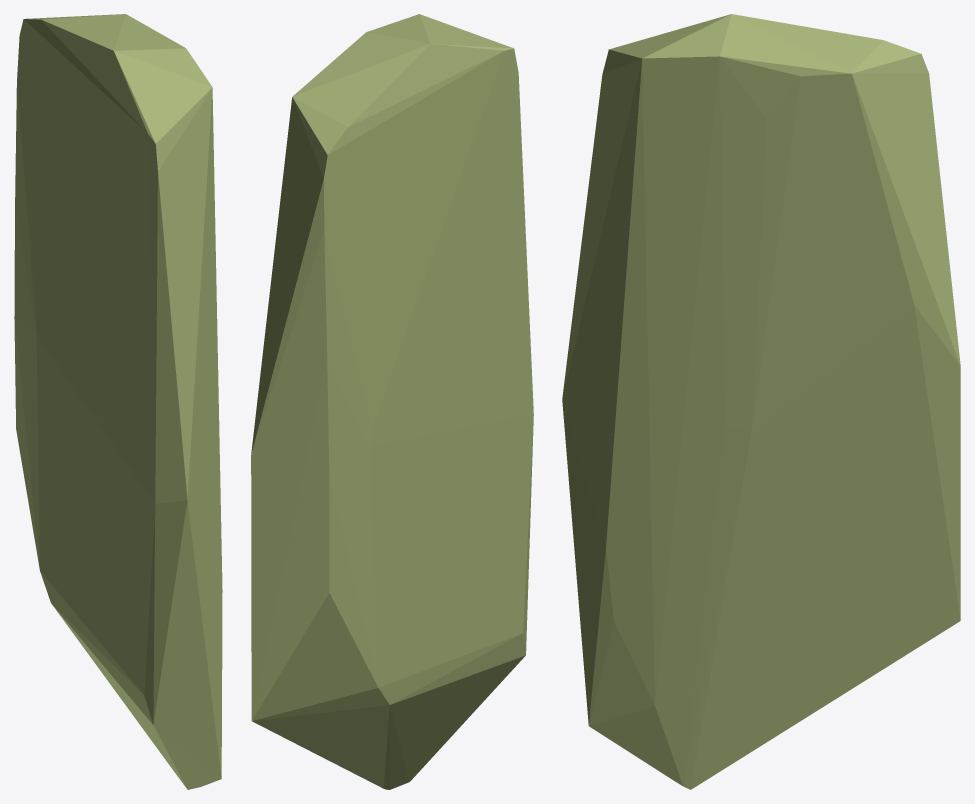
Rendered from bodyPart_door_front_c01.glb.
3 views of the same model, side by side, from view 1: azimuth 30°, elevation 25°; view 2: azimuth 150°, elevation 25°; view 3: azimuth 270°, elevation 25° (orthographic). The views are drawn at different scales.
Parts seen in each view (by area): view 1: geometry_0; view 2: geometry_0; view 3: geometry_0.
Boxes of the visible parts, x1,y1,x2,y2 form: geometry_0: (14, 14, 222, 789); geometry_0: (251, 14, 533, 789); geometry_0: (562, 14, 960, 789).
Size of the model in its own units: 0.0682 by 0.4766 by 0.231.
